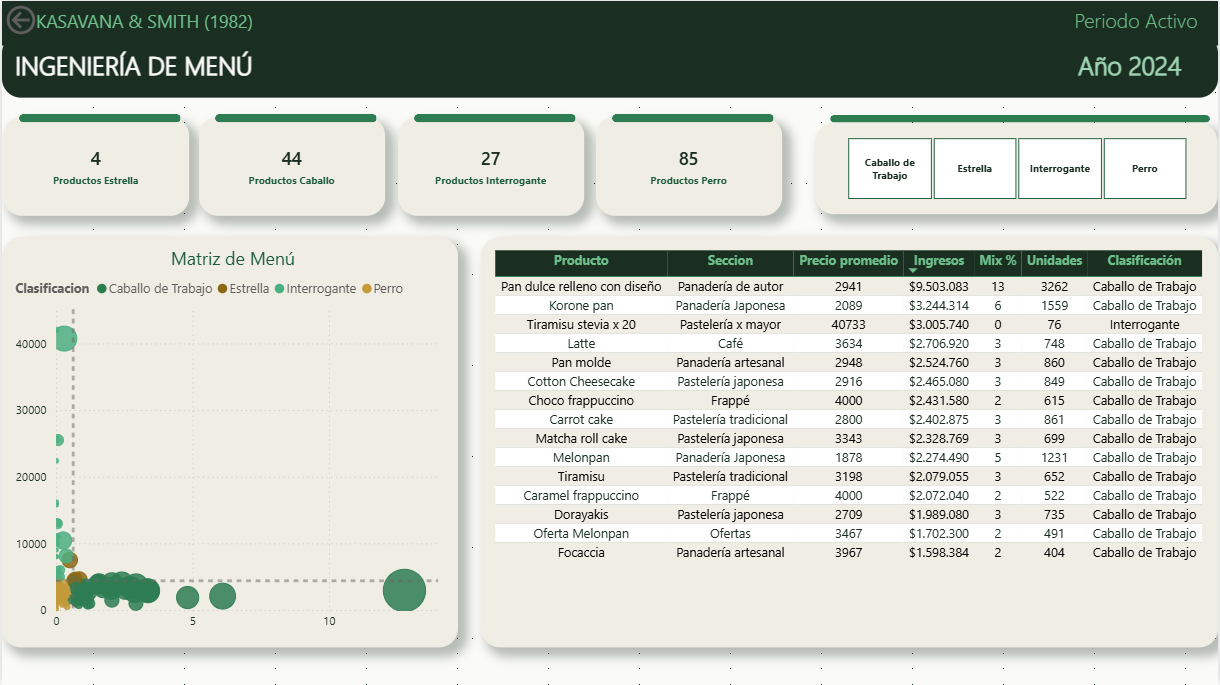

What the dashboard file says about the page in this screenshot:
{"tool":"powerbi","page":{"name":"Análisis de Menú","canvas":[1280,720],"ordinal":1},"visuals":[{"type":"slicer","title":"Clasificación","fields":{"Values":["product_summary.clasificacion_menu"]},"box":[856,128,424,96],"z":0},{"type":"textbox","box":[0,0,1280.2,46.5],"z":1000},{"type":"textbox","box":[0,34.2,1280.2,66.7],"z":2000},{"type":"cardVisual","fields":{"Data":["DimFecha.Productos Estrella"]},"box":[0.6,122.2,195.8,104],"z":3000},{"type":"cardVisual","fields":{"Data":["DimFecha.Productos Caballo"]},"box":[207,122.2,195.8,104],"z":4000},{"type":"cardVisual","fields":{"Data":["DimFecha.Productos Interrogante"]},"box":[416.8,122.2,195.8,103.6],"z":5000},{"type":"cardVisual","fields":{"Data":["DimFecha.Productos Perro"]},"box":[624.9,122.2,195.8,103.6],"z":6000},{"type":"shape","box":[17.9,118.8,170.3,8.8],"z":7000},{"type":"shape","box":[224.2,118.8,170.3,8.8],"z":8000},{"type":"shape","box":[434.1,118.8,170.3,8.8],"z":9000},{"type":"shape","box":[642.2,118.8,170.3,8.8],"z":10000},{"type":"scatterChart","title":"Matriz de Menú","fields":{"Series":["product_summary.clasificacion_menu"],"Size":["Sum(product_summary.ingresos_totales)"],"X":["Avg(product_summary.menu_mix_pct)"],"Y":["Avg(product_summary.precio_promedio)"],"Category":["product_summary.producto"]},"box":[0,248,480,432],"z":11000},{"type":"actionButton","box":[0,0,100,40],"z":12000},{"type":"tableEx","fields":{"Values":["product_summary.producto","product_summary.seccion","Sum(product_summary.precio_promedio)","Sum(product_summary.ingresos_totales)","Sum(product_summary.menu_mix_pct)","Sum(product_summary.cantidad)","product_summary.clasificacion_menu"]},"box":[504,248,776,432],"z":13000},{"type":"shape","box":[872,120,400,8],"z":14000}]}

Visuals, with their boxes in screenshot pixels (x1, y1, x2, y2), scaled from the page's 1280x720 canvas onto the 1220x685 screenshot:
"Clasificación" slicer: bbox=[816, 122, 1219, 213]
textbox: bbox=[0, 0, 1219, 44]
textbox: bbox=[0, 33, 1219, 96]
cardVisual - DimFecha.Productos Estrella: bbox=[1, 116, 187, 215]
cardVisual - DimFecha.Productos Caballo: bbox=[197, 116, 384, 215]
cardVisual - DimFecha.Productos Interrogante: bbox=[397, 116, 584, 215]
cardVisual - DimFecha.Productos Perro: bbox=[596, 116, 782, 215]
shape: bbox=[17, 113, 179, 121]
shape: bbox=[214, 113, 376, 121]
shape: bbox=[414, 113, 576, 121]
shape: bbox=[612, 113, 774, 121]
"Matriz de Menú" scatterChart: bbox=[0, 236, 458, 647]
actionButton: bbox=[0, 0, 95, 38]
tableEx - product_summary.producto x product_summary.seccion: bbox=[480, 236, 1219, 647]
shape: bbox=[831, 114, 1212, 122]
